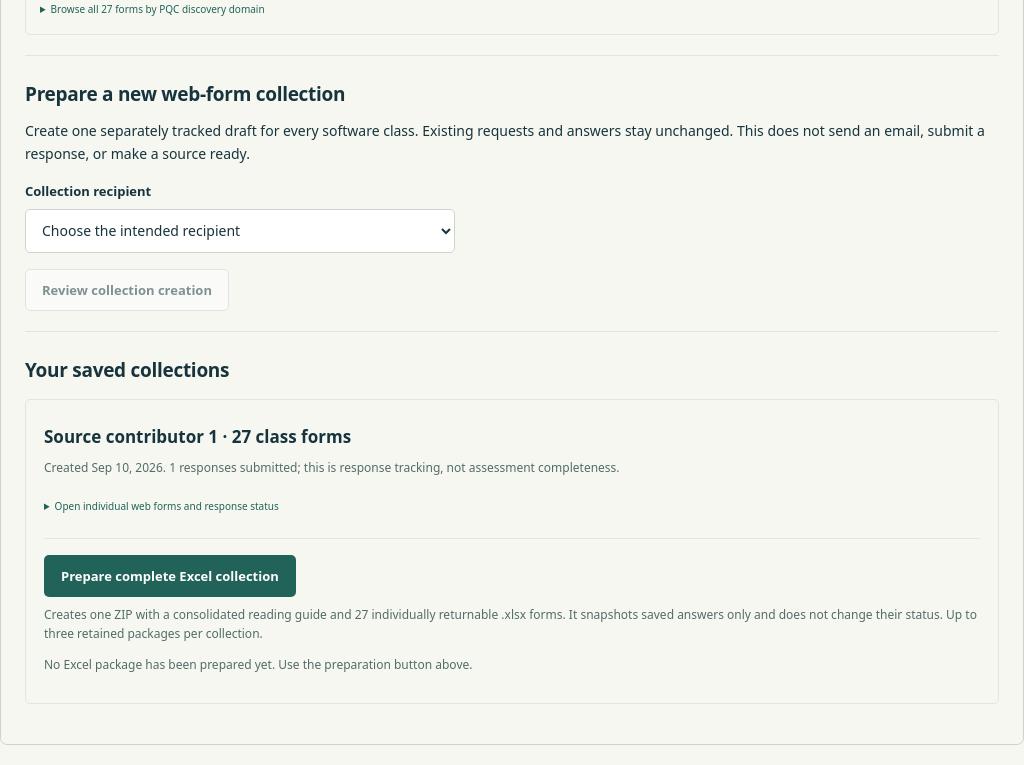
Test: consolidated short-discovery collection › prepares one immutable ZIP plus consolidated guide and all 27 individual Excel links
The image size is (1024, 765).
(page scrolled)
Click the button "Prepare complete Excel collection".
click(170, 576)  # box [44,555,296,597]
(page scrolled)
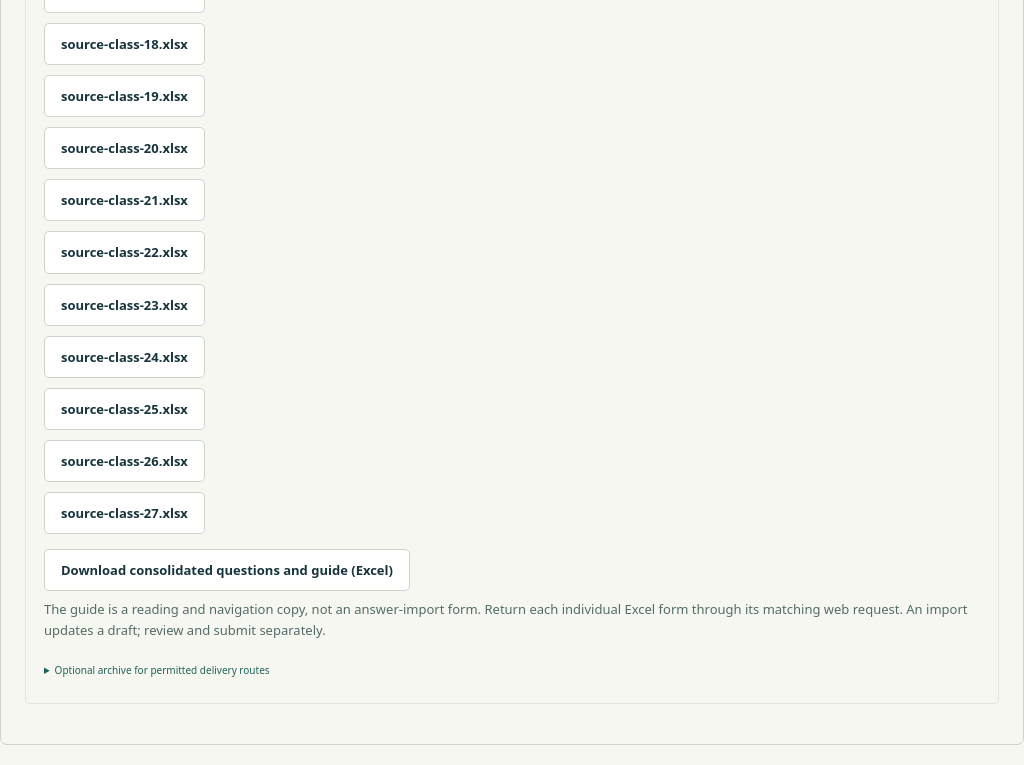
Check: the text "The guide is a reading and navigation copy, not an answer-import form" is shown, box [44,600,968,639]
